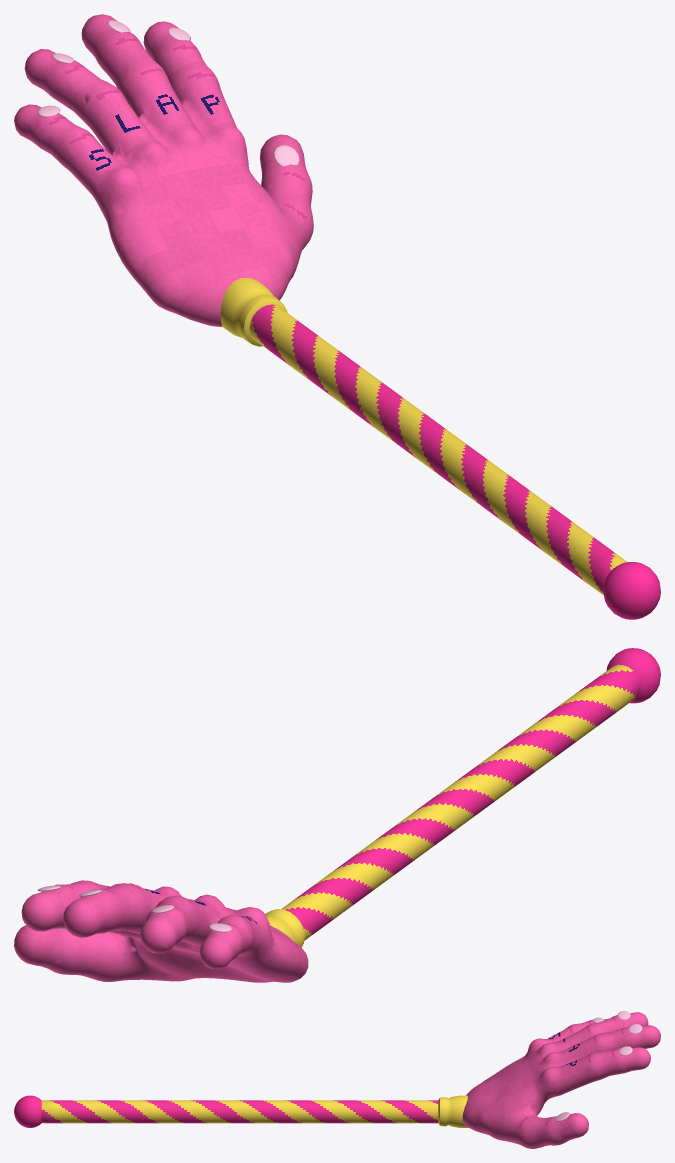
The model's file is w_slapper.glb.
3 renders of one model, top to bottom at view 1: azimuth 30°, elevation 25°; view 2: azimuth 150°, elevation 25°; view 3: azimuth 270°, elevation 25°, orthographic. The views are drawn at different scales.
Parts seen in each view (by area): view 1: slaphand_wzB, slapstick_wzA, slaphand_wzN; view 2: slaphand_wzB, slapstick_wzA, slaphand_wzN; view 3: slaphand_wzB, slapstick_wzA, slaphand_wzN.
Boxes of the visible parts, left/top/right/bottom form: slaphand_wzB: left=14, top=14, right=313, bottom=326; slapstick_wzA: left=220, top=277, right=660, bottom=619; slaphand_wzN: left=37, top=20, right=299, bottom=166; slaphand_wzB: left=14, top=880, right=308, bottom=982; slapstick_wzA: left=265, top=648, right=660, bottom=947; slaphand_wzN: left=37, top=885, right=231, bottom=932; slaphand_wzB: left=462, top=1012, right=660, bottom=1148; slapstick_wzA: left=14, top=1095, right=468, bottom=1127; slaphand_wzN: left=555, top=1011, right=642, bottom=1121.
Bounding box in the file's own units: 0.212 × 0.1536 × 0.8354.
6 materials, 3 textured.
